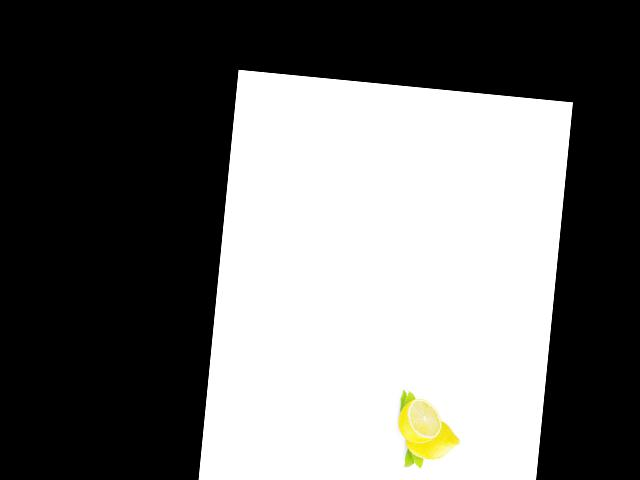lemon: (398, 415, 462, 467)
